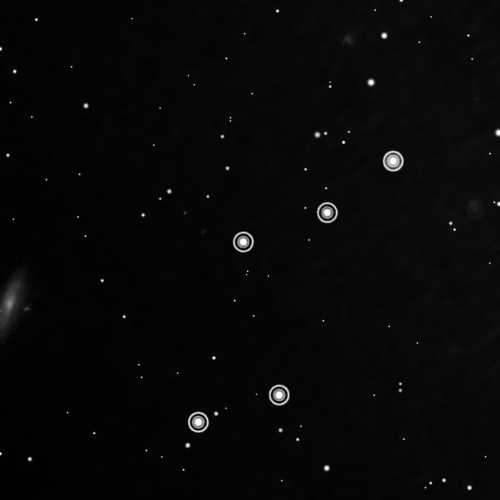lyra: (184, 144, 408, 439)
